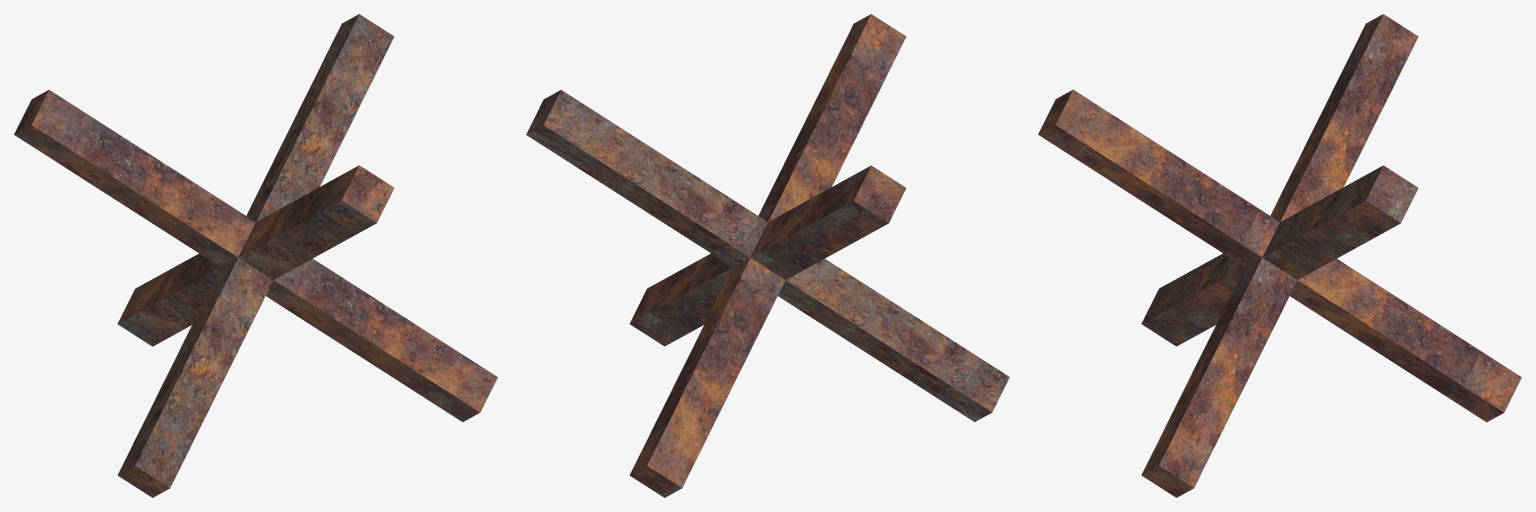
The model's file is antitank.fbx.
The picture shows the model from 3 angles, left to right: view 1: azimuth 30°, elevation 25°; view 2: azimuth 150°, elevation 25°; view 3: azimuth 270°, elevation 25°; orthographic projection.
Parts seen in each view (by area): view 1: Cube; view 2: Cube; view 3: Cube.
Part boxes in pixels (x1,y1,x2,y2): Cube: (14,14,497,497); Cube: (526,14,1009,497); Cube: (1038,14,1521,497).
Size of the model in its own units: 7.12 by 6.24 by 8.22.
Materials: 1 (1 with a texture image).
